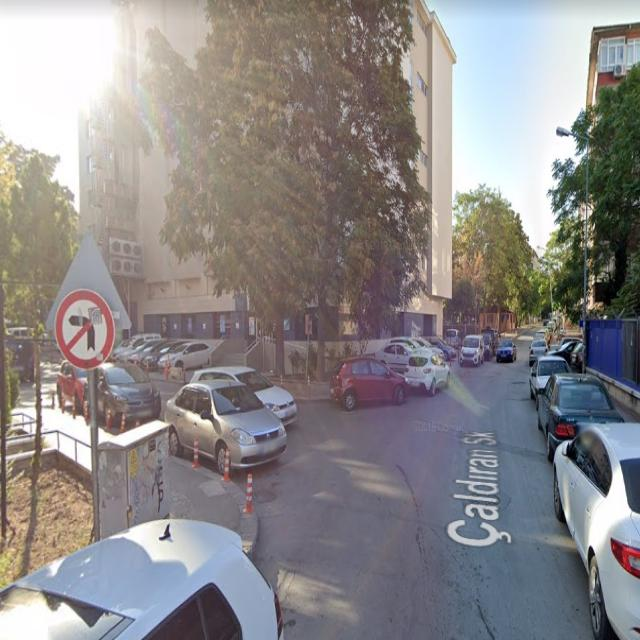soladonulmez: (54, 289, 116, 369)
